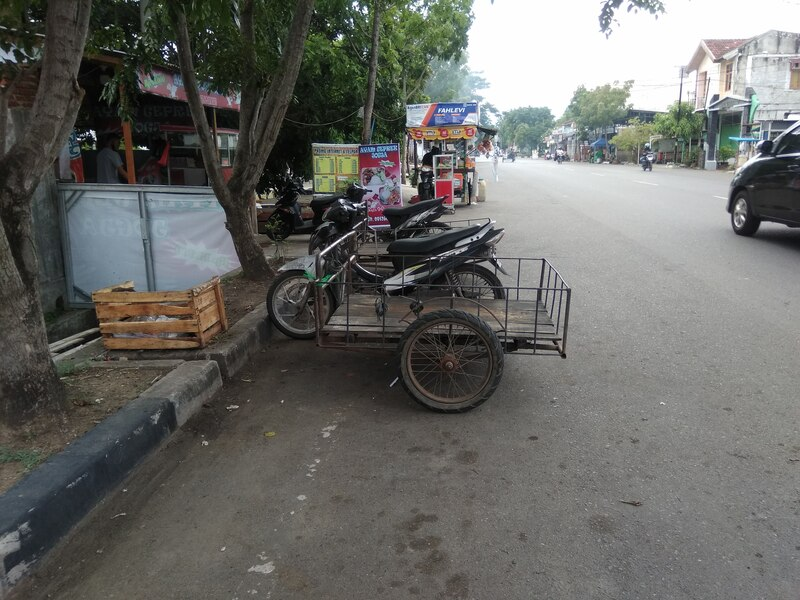becak barang: (264, 194, 579, 423)
